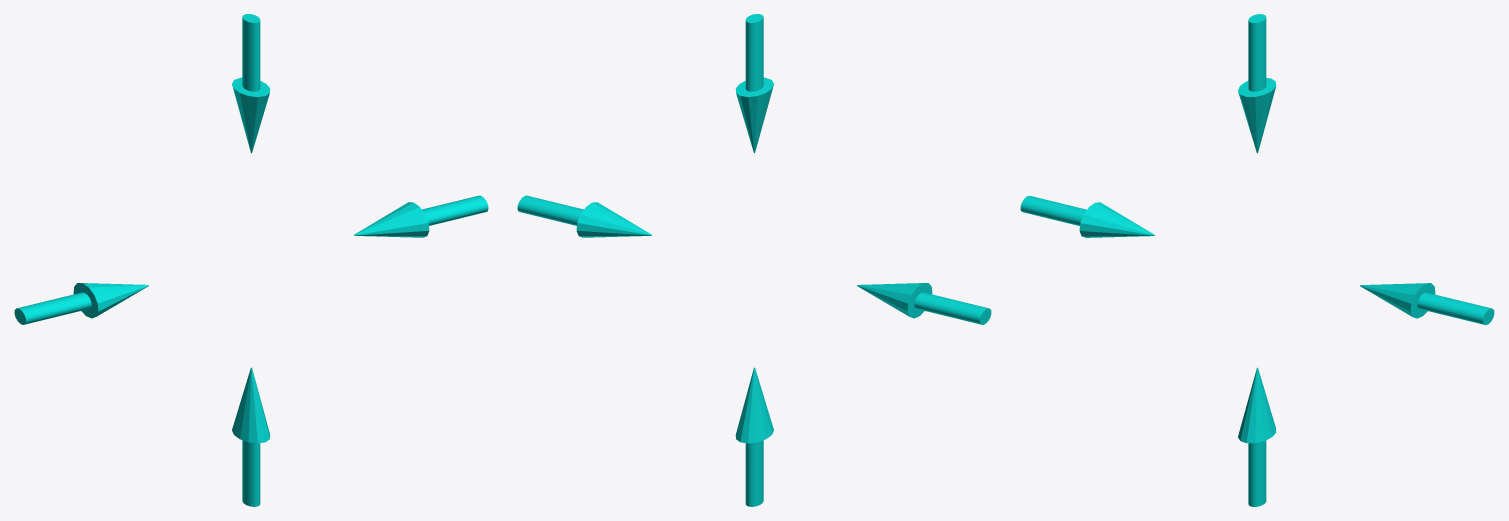
The model's file is arrow 4 anim.fbx.
3 renders of one model, left to right at view 1: azimuth 30°, elevation 25°; view 2: azimuth 150°, elevation 25°; view 3: azimuth 330°, elevation 25°, orthographic.
Parts seen in each view (by area): view 1: pCylinder3, pCylinder2, pCylinder4, pCylinder5; view 2: pCylinder3, pCylinder2, pCylinder4, pCylinder5; view 3: pCylinder2, pCylinder3, pCylinder5, pCylinder4.
Part boxes in pixels (<box>): pCylinder3: <box>232,367,270,506</box>; pCylinder2: <box>232,14,270,153</box>; pCylinder4: <box>354,195,488,237</box>; pCylinder5: <box>14,283,148,324</box>; pCylinder3: <box>735,367,773,506</box>; pCylinder2: <box>735,14,773,153</box>; pCylinder4: <box>517,195,651,237</box>; pCylinder5: <box>857,283,991,324</box>; pCylinder2: <box>1238,14,1276,153</box>; pCylinder3: <box>1238,367,1276,506</box>; pCylinder5: <box>1020,196,1154,237</box>; pCylinder4: <box>1360,283,1494,324</box>.
Bounding box in the file's own units: 902 × 902 × 84.44.
